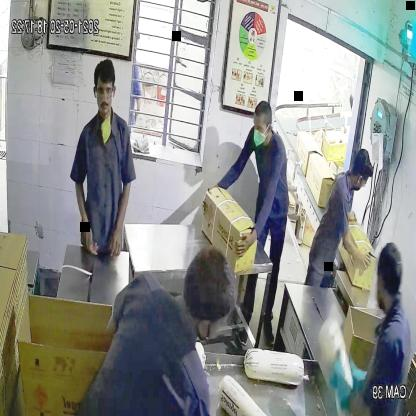goggles: (91, 81, 118, 102)
no_goggles: (252, 119, 273, 136)
